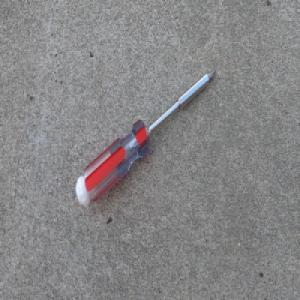Screwdriver: (75, 68, 218, 208)
